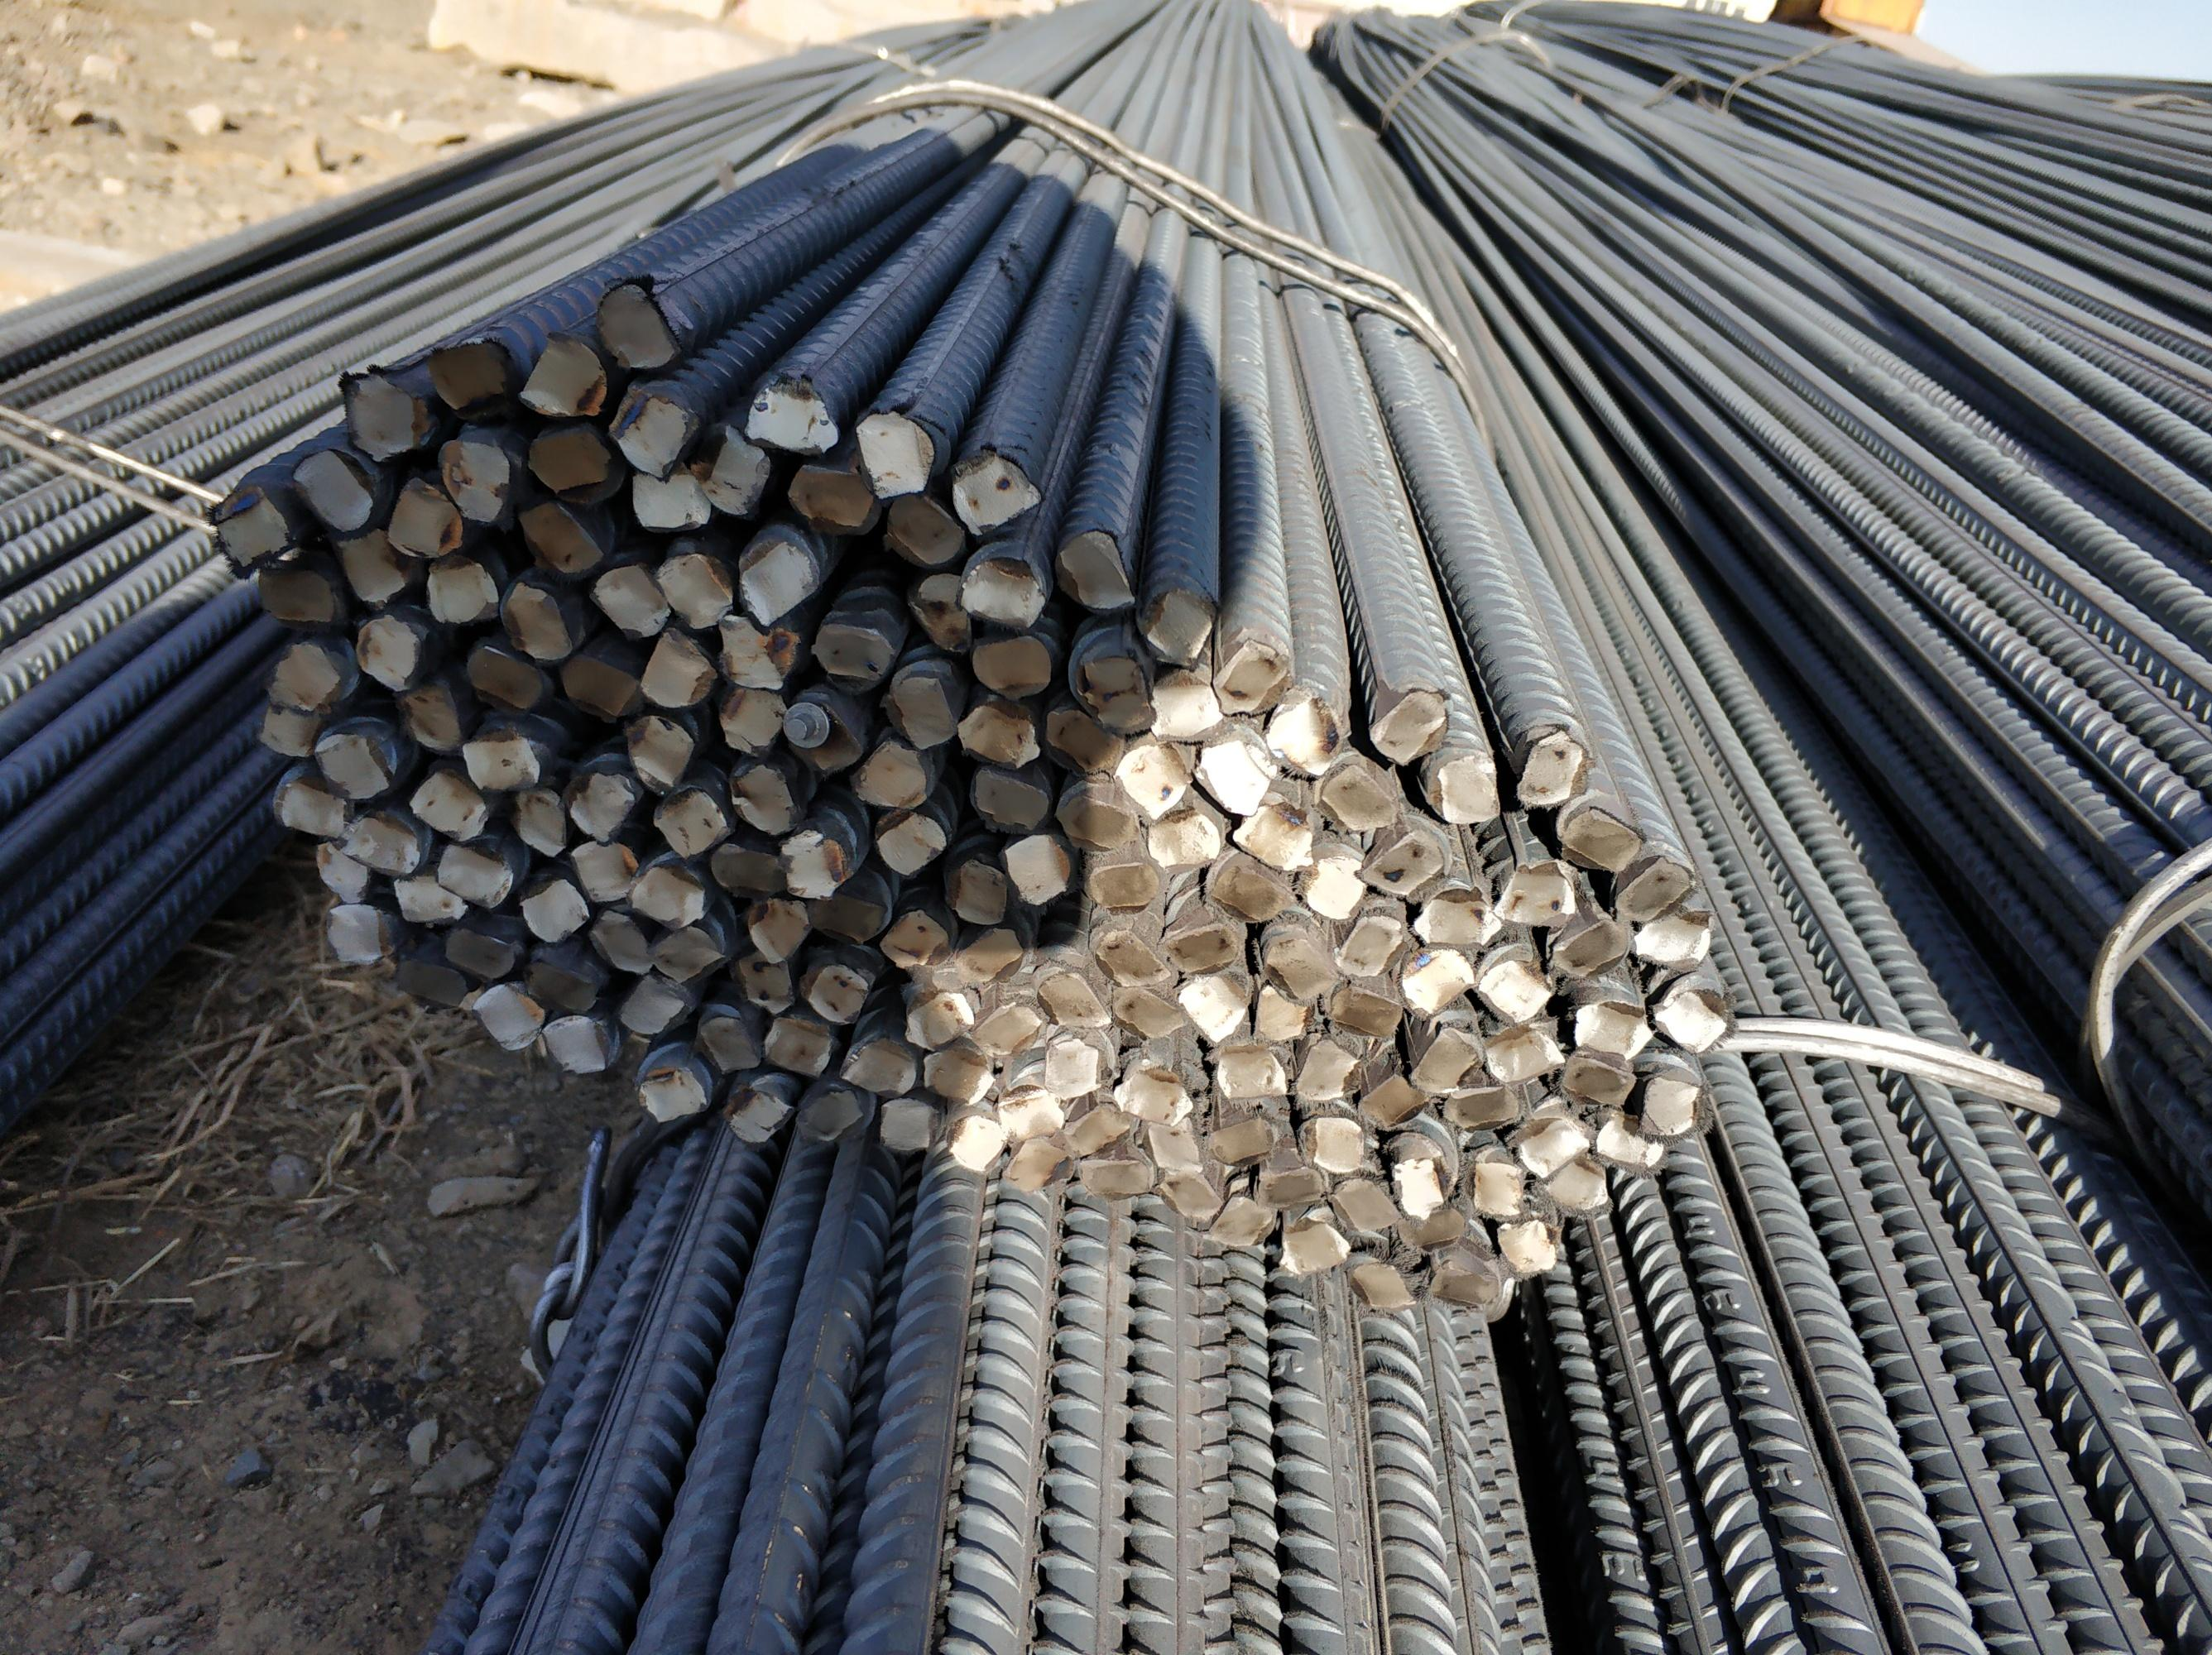bar: (603, 376, 697, 480), (737, 528, 825, 628), (339, 370, 431, 464), (424, 336, 521, 424), (207, 483, 295, 581), (525, 419, 624, 506), (516, 327, 606, 419), (593, 276, 681, 370), (740, 372, 838, 457), (945, 445, 1037, 534), (634, 622, 719, 711), (1362, 678, 1451, 763), (516, 497, 608, 579), (692, 421, 770, 516), (709, 608, 799, 690), (434, 435, 514, 527), (851, 405, 931, 497), (292, 447, 372, 534), (587, 556, 671, 638), (653, 546, 733, 631), (1070, 650, 1156, 730), (963, 629, 1053, 704), (784, 455, 878, 527), (384, 475, 464, 558), (407, 763, 490, 843), (1058, 527, 1138, 610), (619, 708, 697, 793), (881, 490, 966, 568), (904, 563, 977, 654), (495, 579, 575, 661), (334, 525, 412, 608), (459, 723, 549, 794), (261, 635, 342, 713), (725, 758, 801, 841), (349, 610, 424, 695), (957, 555, 1046, 626), (782, 695, 862, 774), (650, 782, 732, 859), (335, 807, 424, 876), (387, 676, 464, 756), (513, 871, 593, 947), (1195, 735, 1272, 815), (1211, 636, 1288, 716), (1265, 694, 1340, 775), (1317, 760, 1401, 833), (462, 638, 547, 709), (952, 697, 1039, 767), (1649, 977, 1727, 1053), (252, 556, 335, 628), (626, 861, 709, 932), (1362, 826, 1446, 897), (964, 765, 1051, 833), (467, 975, 546, 1050), (1260, 932, 1340, 1005), (848, 735, 930, 807), (627, 468, 712, 535), (417, 556, 502, 624), (808, 617, 893, 685), (1609, 852, 1696, 918), (1491, 862, 1578, 928), (1564, 994, 1651, 1060), (1333, 906, 1407, 982), (433, 840, 514, 909), (1559, 805, 1640, 874), (1230, 803, 1315, 869), (1116, 744, 1190, 819), (714, 681, 791, 754), (1175, 970, 1251, 1043), (884, 673, 957, 749), (1397, 944, 1474, 1017), (999, 831, 1070, 909), (871, 808, 952, 876), (1208, 855, 1293, 920), (1515, 732, 1588, 807), (1142, 586, 1213, 662), (311, 730, 389, 800), (1041, 704, 1119, 774), (1409, 890, 1500, 949), (1428, 751, 1501, 824), (1480, 1022, 1566, 1085), (777, 827, 848, 902), (558, 648, 634, 718), (878, 907, 956, 975), (1552, 913, 1630, 980), (1055, 789, 1136, 854), (1093, 925, 1175, 987), (565, 768, 634, 841), (568, 834, 641, 904), (1275, 1213, 1352, 1279), (1114, 1062, 1192, 1127), (1635, 1071, 1705, 1142), (749, 888, 813, 965), (1635, 906, 1712, 970), (632, 1062, 711, 1125), (1032, 968, 1110, 1031), (950, 923, 1029, 986), (1475, 953, 1546, 1020), (1409, 1027, 1480, 1095), (509, 775, 568, 857), (719, 1078, 794, 1142), (1590, 1109, 1666, 1172), (269, 777, 348, 838), (1145, 676, 1223, 737), (1103, 980, 1183, 1040), (540, 1008, 612, 1074), (919, 1040, 990, 1106), (1300, 850, 1366, 921), (841, 1034, 914, 1099), (1513, 1113, 1586, 1177), (1291, 1034, 1359, 1102), (619, 968, 688, 1034), (1541, 1151, 1611, 1217), (252, 695, 325, 758), (523, 953, 598, 1014), (1150, 1163, 1225, 1224), (805, 890, 886, 946), (709, 836, 785, 895), (1322, 980, 1399, 1040), (1142, 807, 1220, 864), (944, 857, 1010, 925), (325, 901, 394, 965), (732, 944, 796, 1014), (1140, 1114, 1211, 1177), (391, 867, 467, 925), (1328, 1166, 1394, 1233), (587, 909, 655, 974), (693, 1008, 761, 1073), (766, 1014, 834, 1078), (905, 987, 973, 1052), (1496, 1212, 1559, 1281), (970, 1000, 1041, 1060), (1060, 1100, 1133, 1160), (646, 923, 721, 980), (1425, 1255, 1503, 1309), (999, 1132, 1070, 1191), (805, 958, 869, 1022), (1164, 920, 1241, 974), (1345, 1255, 1421, 1309), (794, 1085, 864, 1144), (1083, 862, 1161, 914), (1439, 1081, 1522, 1130), (1300, 1109, 1364, 1172), (1465, 1156, 1527, 1220), (1216, 1041, 1284, 1100), (1208, 1113, 1275, 1172), (445, 925, 514, 982), (1355, 1071, 1425, 1128), (1076, 1151, 1157, 1200), (1560, 1052, 1633, 1106), (315, 838, 374, 904), (1043, 1036, 1109, 1095), (396, 954, 467, 1008), (1392, 1154, 1446, 1226), (1255, 1158, 1328, 1210), (872, 1092, 935, 1151), (947, 1107, 1003, 1173), (994, 1088, 1062, 1139), (1215, 1187, 1274, 1245), (1253, 980, 1308, 1041)
